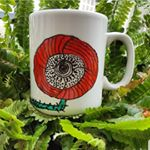cups: (27, 9, 137, 118)
